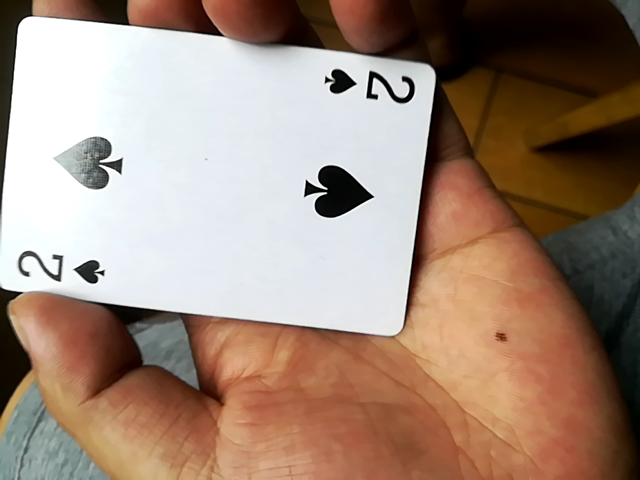ht 2: (5, 20, 440, 342)
